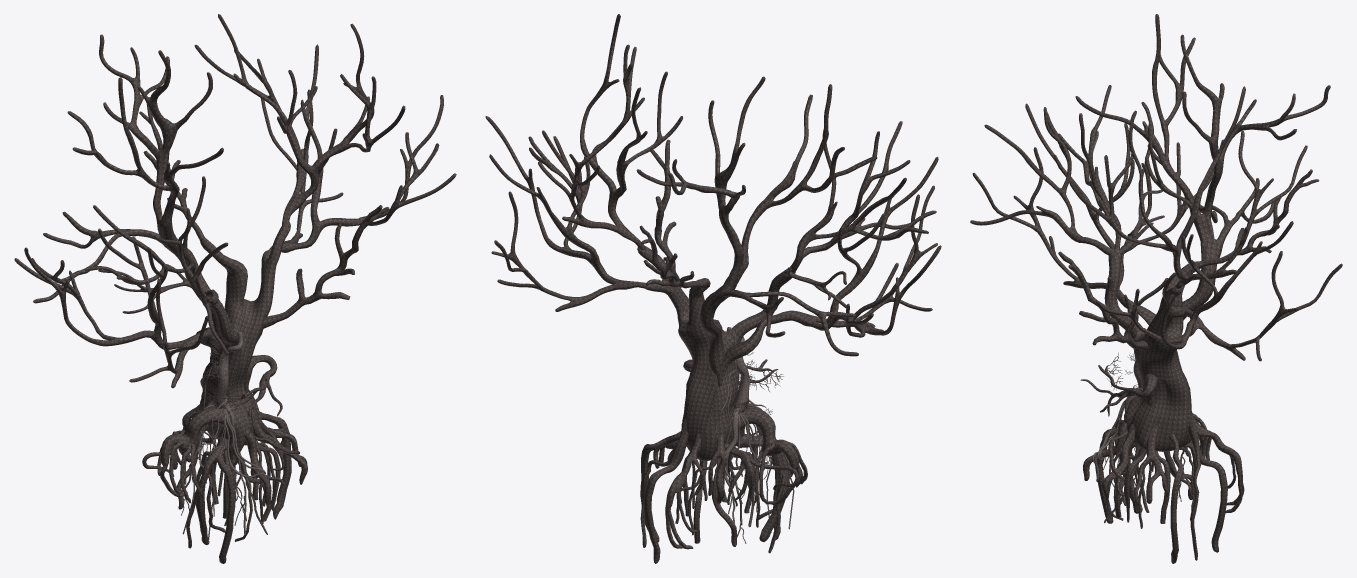
Rendered from ltree.fbx.
3 renders of one model, left to right at view 1: azimuth 30°, elevation 25°; view 2: azimuth 150°, elevation 25°; view 3: azimuth 270°, elevation 25°, orthographic. The views are drawn at different scales.
Parts seen in each view (by area): view 1: ltree_Mesh_001, ltree_Mesh_002; view 2: ltree_Mesh_001, ltree_Mesh_002; view 3: ltree_Mesh_001, ltree_Mesh_002.
Part boxes in pixels (x1=…): ltree_Mesh_001: x1=14, y1=14, x2=456, y2=563; ltree_Mesh_002: x1=180, y1=331, x2=268, y2=542; ltree_Mesh_001: x1=485, y1=14, x2=941, y2=563; ltree_Mesh_002: x1=712, y1=327, x2=794, y2=543; ltree_Mesh_001: x1=970, y1=14, x2=1342, y2=563; ltree_Mesh_002: x1=1092, y1=328, x2=1190, y2=508.
Bounding box in the file's own units: 16793 × 18288 × 12859.
